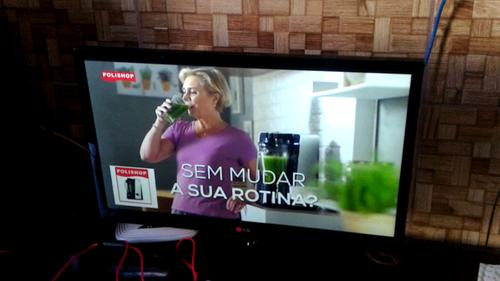Polishop #1: (109, 164, 159, 209)
